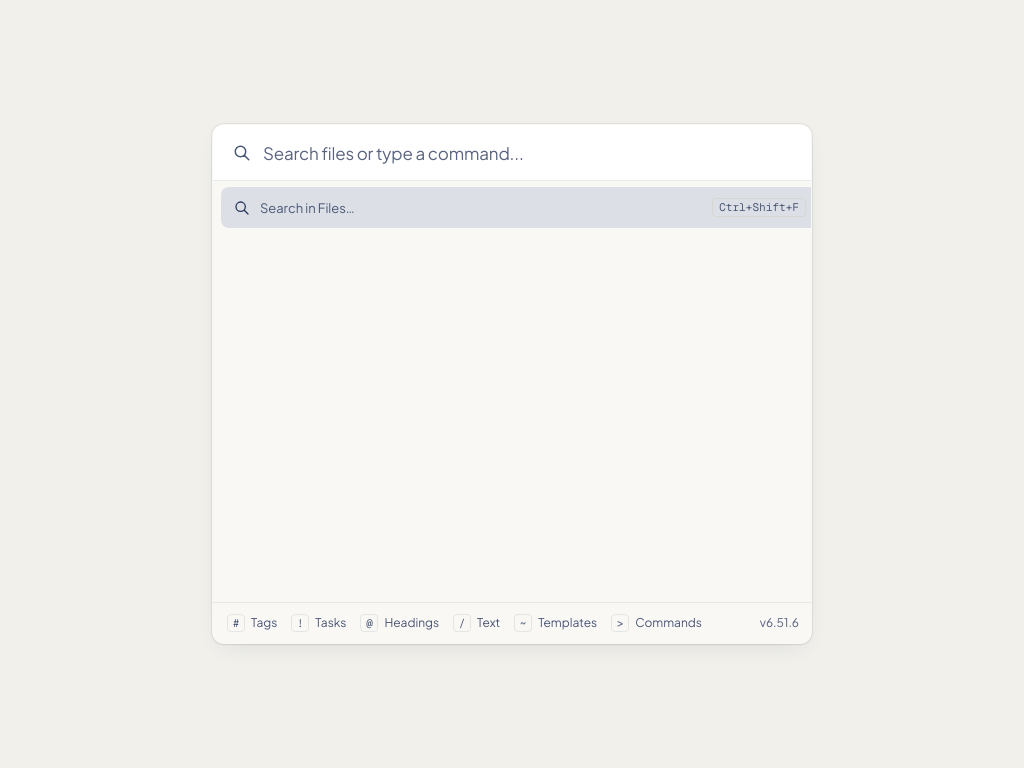
Test: CommandPalette / note text scope › shows the highlighted snippet with name:line and the folder
Press k
Type "/needle" into the dropdown.
click(531, 152); type("/needle")  # box [263,125,799,180]
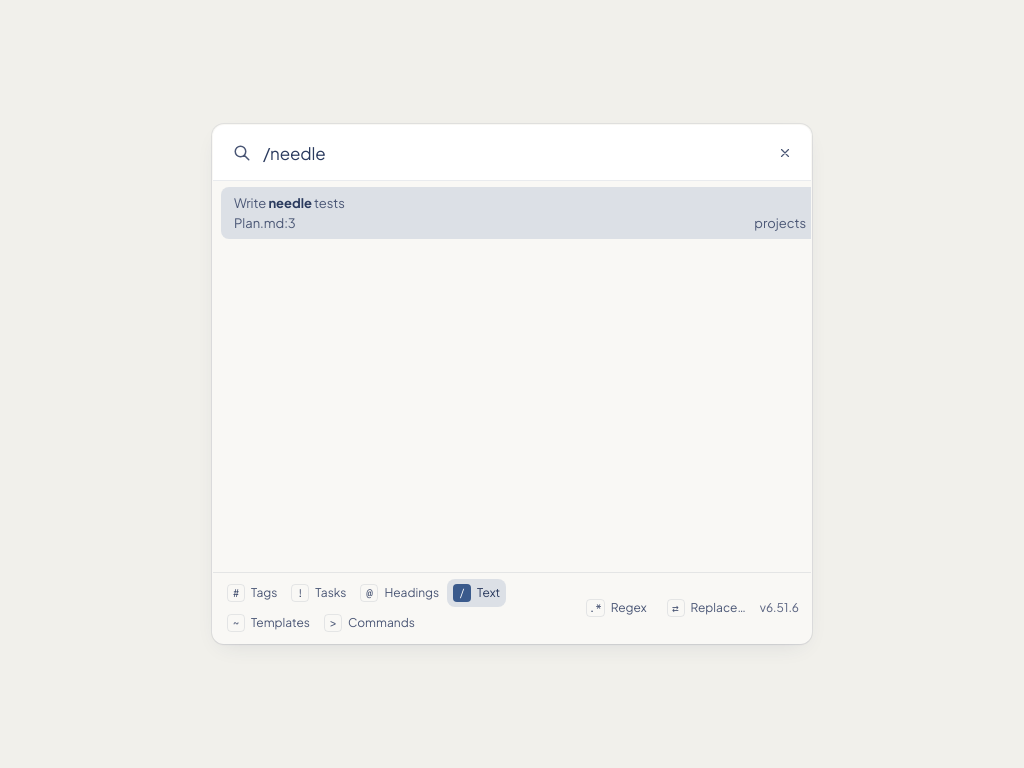
Check: the option "Write needle tests Plan.md:3 projects" is shown, box [221,187,811,239]
